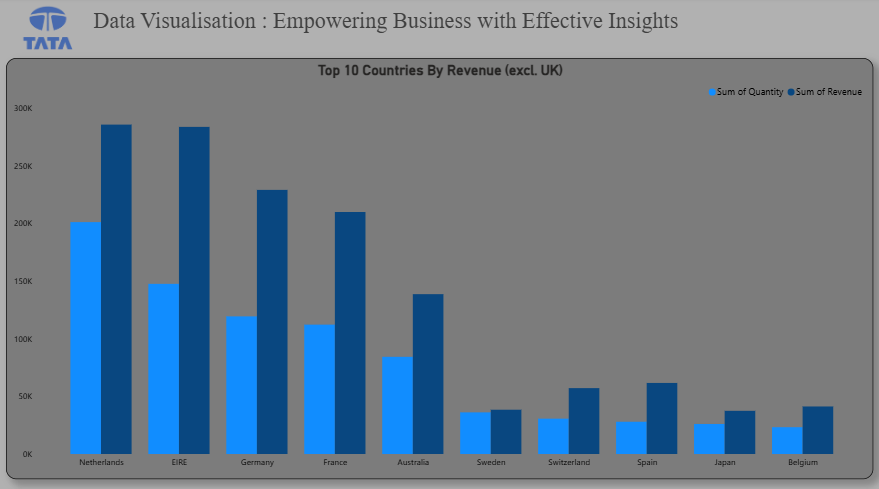

The page's visual inventory and layout, read from the dashboard file:
{"tool":"powerbi","page":{"name":"Question 2","canvas":[1280,720],"ordinal":1},"visuals":[{"type":"clusteredColumnChart","title":"Top 10 Countries By Revenue (excl. UK)","fields":{"Category":["Clean data Set.Country"],"Y":["Sum(Clean data Set.Quantity)","Sum(Clean data Set.Revenue)"]},"box":[9.7,88.5,1253.7,608.9],"z":0},{"type":"image","box":[9.7,9.7,121.6,69.1],"z":1000},{"type":"textbox","box":[131.3,9.7,1111.7,69.1],"z":2000}]}

Visuals, with their boxes on the page's 1280x720 design canvas (x1, y1, x2, y2). These are canvas units, not pixel positions in the 879x489 screenshot, which may show the page scaled, cropped or inside an application window:
"Top 10 Countries By Revenue (excl. UK)" clusteredColumnChart: x1=10 y1=88 x2=1263 y2=697
image: x1=10 y1=10 x2=131 y2=79
textbox: x1=131 y1=10 x2=1243 y2=79
